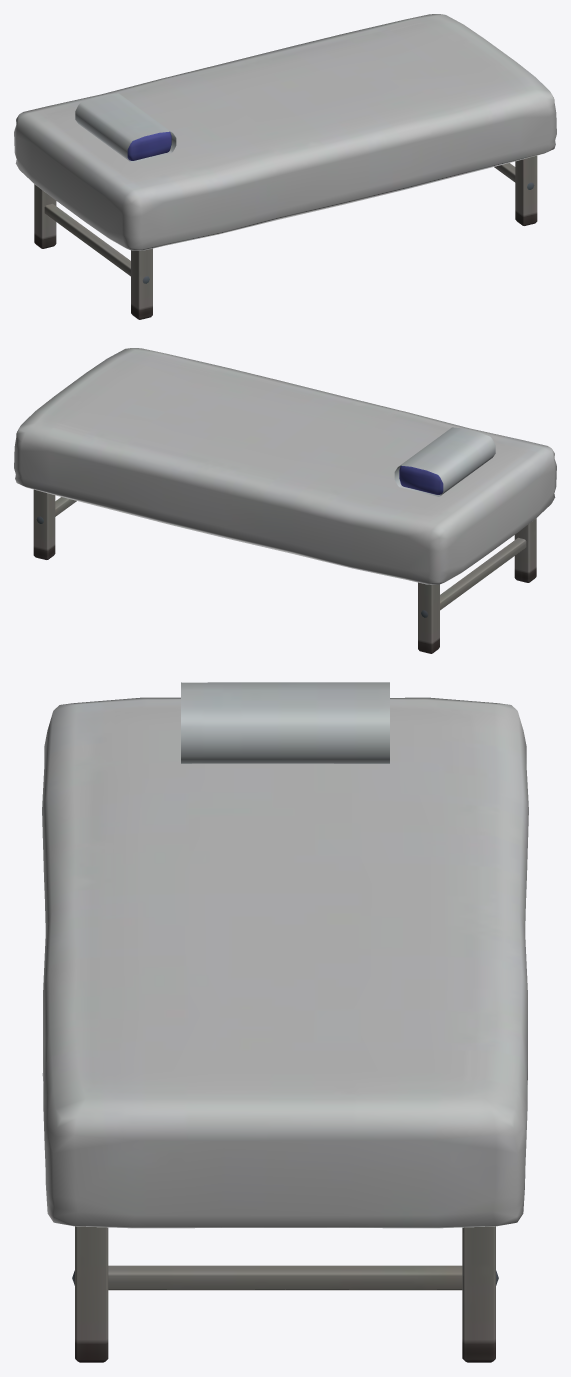
3 views of the same model, one above another, from view 1: azimuth 30°, elevation 25°; view 2: azimuth 150°, elevation 25°; view 3: azimuth 270°, elevation 25° (orthographic). The views are drawn at different scales.
Size of the model in its own units: 19.19 by 6.59 by 9.25.
1 material, 1 textured.
